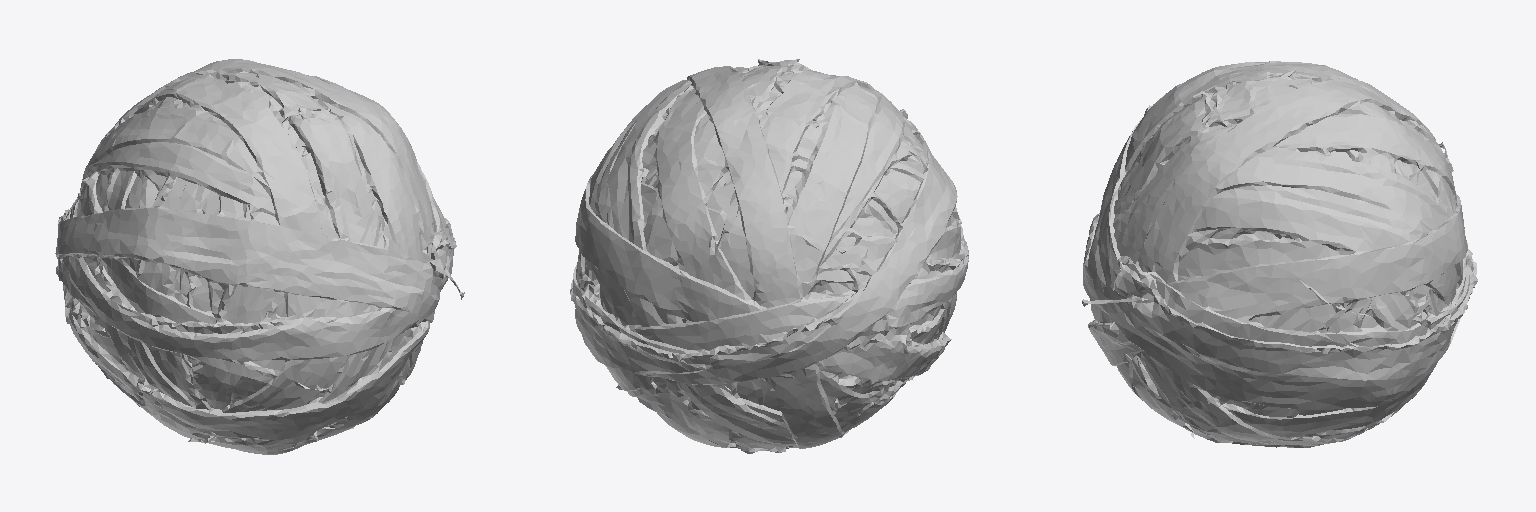
Rendered from pelota.obj.
3 views of the same model, side by side, from view 1: azimuth 30°, elevation 25°; view 2: azimuth 150°, elevation 25°; view 3: azimuth 270°, elevation 25° (orthographic).
Visible parts, largest first — view 1: pelota; view 2: pelota; view 3: pelota.
Boxes of the visible parts, box(x1,y1,x2,y2) form: pelota: box(55, 59, 464, 454); pelota: box(570, 59, 968, 453); pelota: box(1082, 61, 1477, 447).
Bounding box in the file's own units: 20.2 × 20.15 × 20.53.